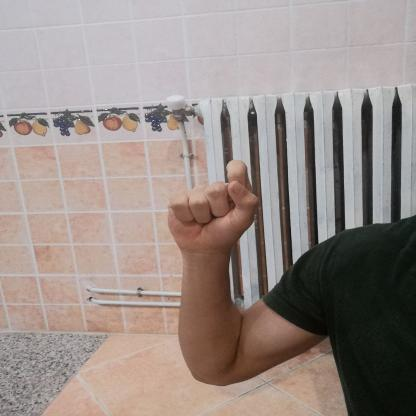FAA: (158, 154, 269, 264)
